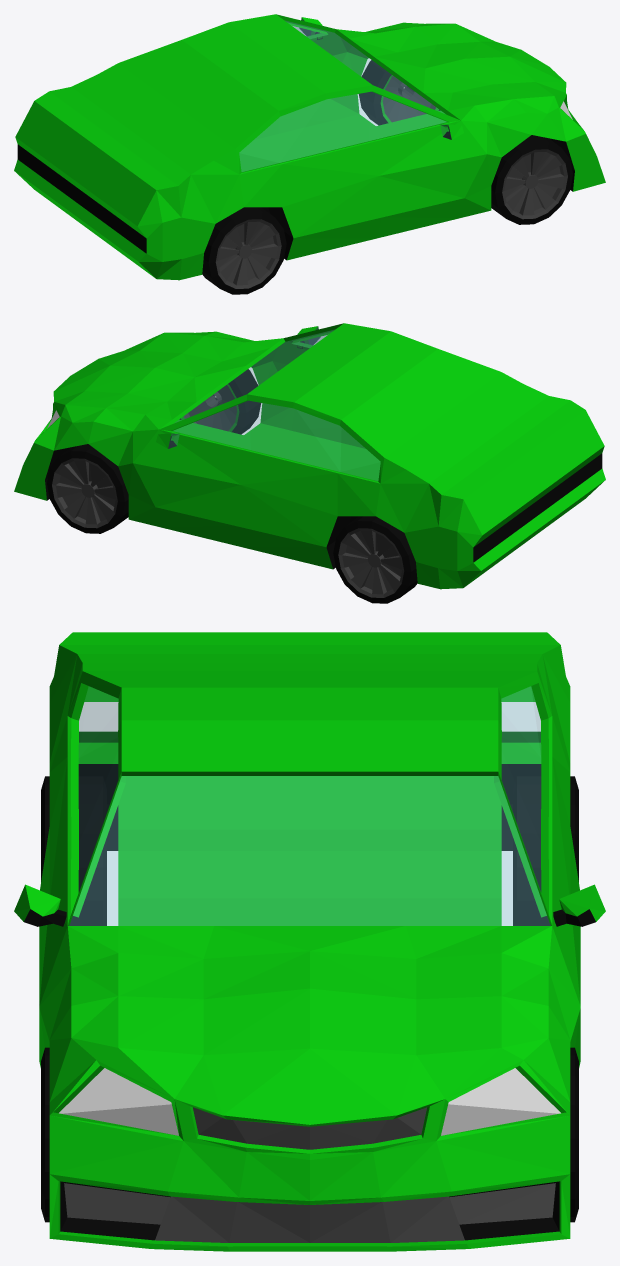
Rendered from GreenCar.obj.
3 views of the same model, one above another, from view 1: azimuth 30°, elevation 25°; view 2: azimuth 150°, elevation 25°; view 3: azimuth 270°, elevation 25° (orthographic). The views are drawn at different scales.
Parts seen in each view (by area): view 1: GreenCar_Material.073, GreenCar_Material.077, GreenCar_Material.075, GreenCar_Material.076; view 2: GreenCar_Material.073, GreenCar_Material.077, GreenCar_Material.075, GreenCar_Material.076; view 3: GreenCar_Material.073, GreenCar_Material.077, GreenCar_Material.078, GreenCar_Material.075, GreenCar_Material.074.
Part boxes in pixels (x1=…): GreenCar_Material.073: x1=14, y1=14, x2=605, y2=280; GreenCar_Material.077: x1=239, y1=18, x2=451, y2=171; GreenCar_Material.075: x1=17, y1=28, x2=574, y2=294; GreenCar_Material.076: x1=215, y1=76, x2=567, y2=288; GreenCar_Material.073: x1=14, y1=323, x2=605, y2=589; GreenCar_Material.077: x1=168, y1=327, x2=380, y2=480; GreenCar_Material.075: x1=45, y1=337, x2=602, y2=603; GreenCar_Material.076: x1=52, y1=385, x2=404, y2=597; GreenCar_Material.073: x1=14, y1=632, x2=605, y2=1251; GreenCar_Material.077: x1=69, y1=686, x2=550, y2=925; GreenCar_Material.078: x1=64, y1=1107, x2=555, y2=1242; GreenCar_Material.075: x1=24, y1=764, x2=595, y2=1240; GreenCar_Material.074: x1=59, y1=1068, x2=560, y2=1135.
Size of the model in its own units: 4.14 by 1.35 by 2.3.
